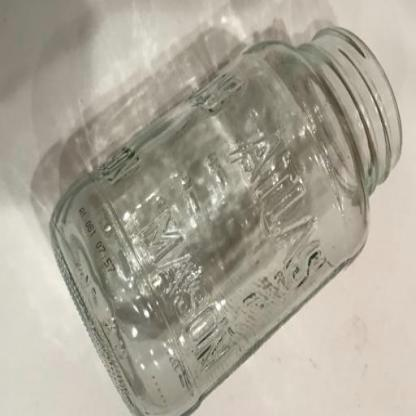Glass: (46, 27, 405, 416)
